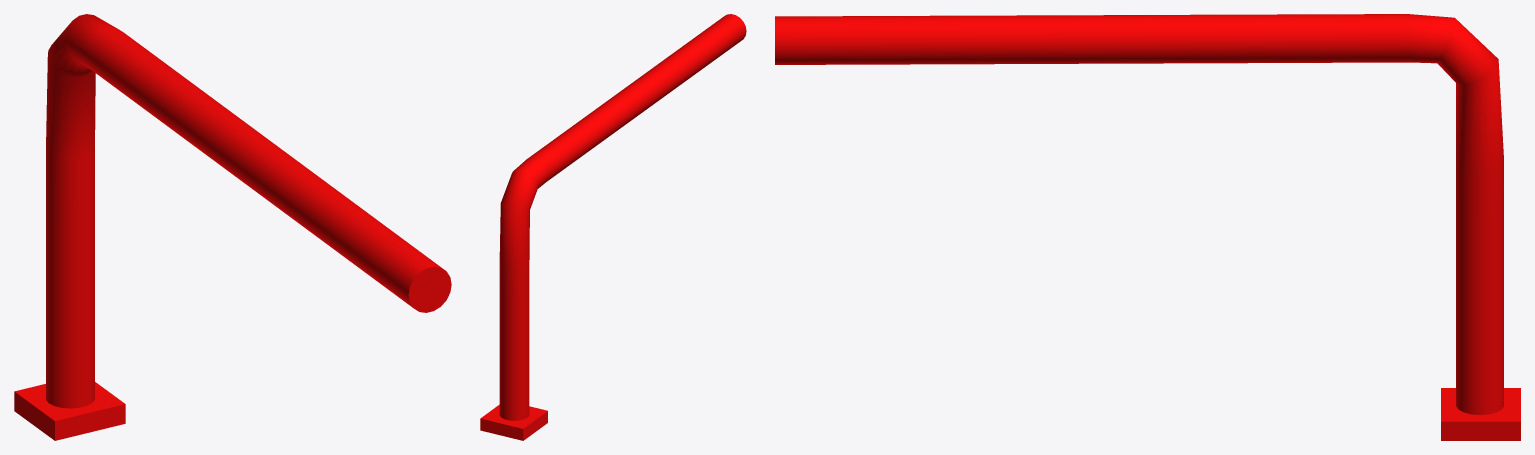
The model's file is Valla3.FBX.
The picture shows the model from 3 angles, left to right: view 1: azimuth 30°, elevation 25°; view 2: azimuth 150°, elevation 25°; view 3: azimuth 270°, elevation 25°; orthographic projection. The views are drawn at different scales.
Parts seen in each view (by area): view 1: Valla3; view 2: Valla3; view 3: Valla3.
Boxes of the visible parts, <box> form: Valla3: <box>14,14,451,440</box>; Valla3: <box>480,14,746,440</box>; Valla3: <box>775,14,1520,440</box>.
Bounding box in the file's own units: 8.35 × 47.05 × 78.03.
